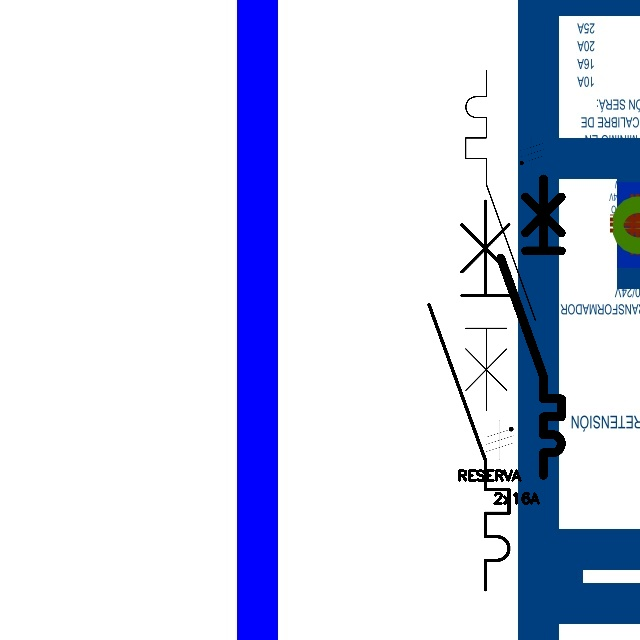interruptor_termomagnetico: (419, 191, 519, 600), (457, 62, 544, 419), (493, 171, 569, 483)
